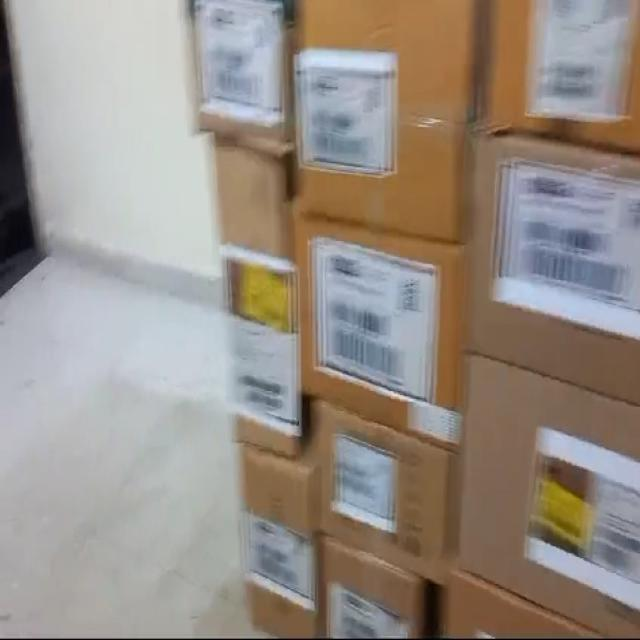BoxFace: (450, 338, 640, 634), (280, 199, 471, 453), (471, 130, 640, 406), (292, 0, 476, 240), (200, 134, 305, 471), (302, 394, 447, 582), (475, 0, 640, 162), (227, 432, 322, 640), (181, 0, 298, 157)
